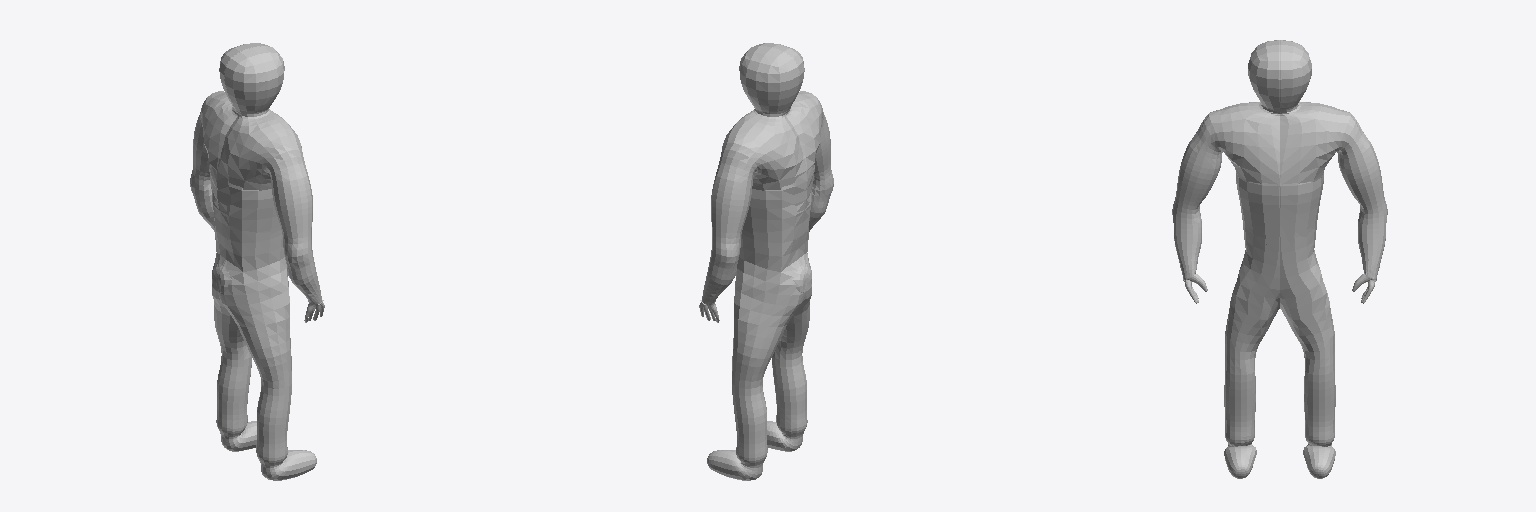
File: Personnage2.obj
The picture shows the model from 3 angles: view 1: azimuth 30°, elevation 25°; view 2: azimuth 150°, elevation 25°; view 3: azimuth 270°, elevation 25°; orthographic projection.
Parts seen in each view (by area): view 1: Plan; view 2: Plan; view 3: Plan.
Boxes of the visible parts, x1,y1,x2,y2 form: Plan: [190, 43, 324, 480]; Plan: [699, 43, 833, 480]; Plan: [1172, 40, 1387, 478].
Bounding box in the file's own units: 1.2 × 6.09 × 2.84.